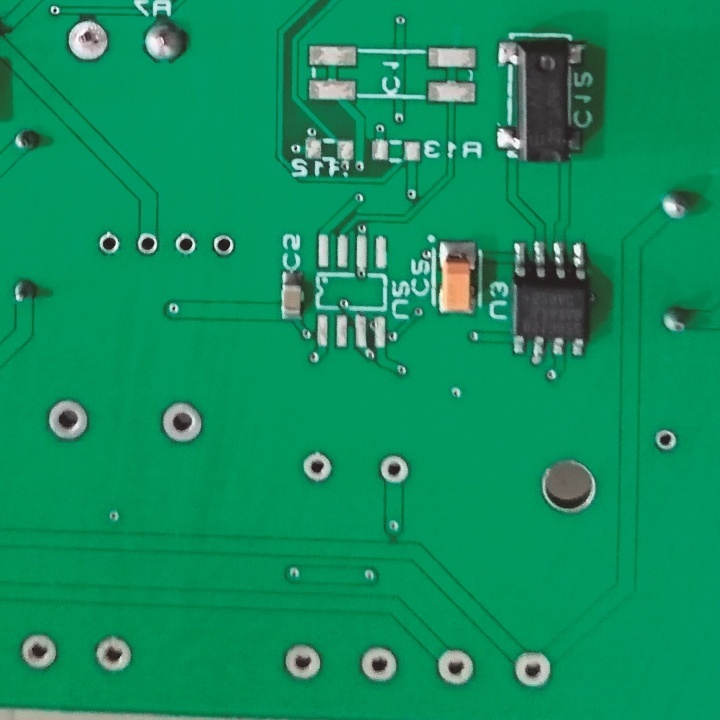F: (16, 630, 66, 678), (159, 402, 206, 452), (45, 395, 93, 443), (89, 634, 140, 678), (64, 18, 112, 63), (277, 643, 331, 683), (430, 647, 481, 688), (356, 643, 402, 686), (512, 652, 552, 697), (300, 449, 334, 489), (377, 451, 411, 491), (648, 425, 684, 453), (210, 232, 239, 260), (96, 229, 123, 259), (173, 230, 199, 259), (135, 230, 160, 259)
